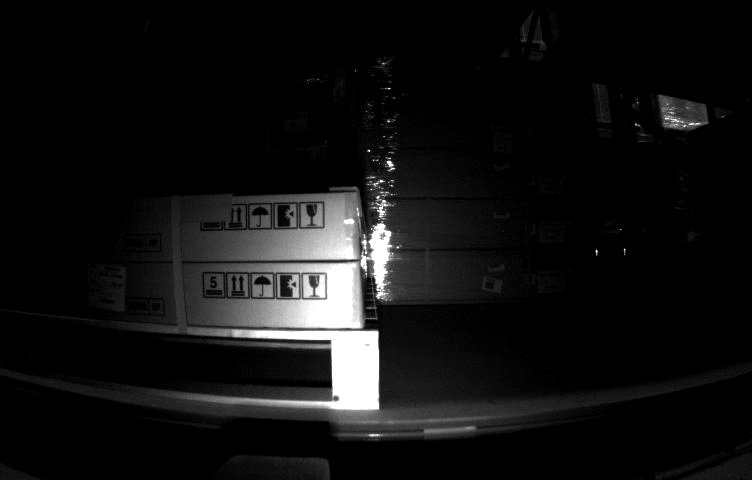True Barcode: (81, 263, 127, 313)
